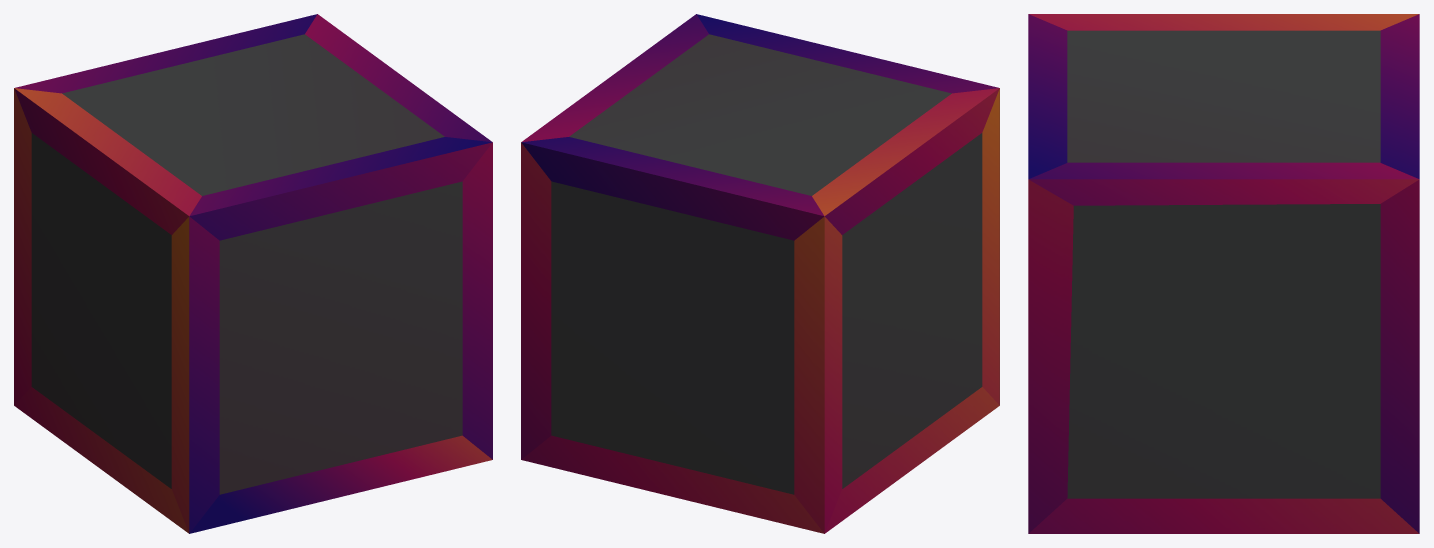
The model's file is StageTexture.fbx.
3 renders of one model, left to right at view 1: azimuth 30°, elevation 25°; view 2: azimuth 150°, elevation 25°; view 3: azimuth 270°, elevation 25°, orthographic. The views are drawn at different scales.
Parts seen in each view (by area): view 1: 立方体; view 2: 立方体; view 3: 立方体.
Boxes of the visible parts, <box> form: 立方体: <box>14,14,492,533</box>; 立方体: <box>521,14,999,533</box>; 立方体: <box>1028,14,1419,533</box>.
Bounding box in the file's own units: 102 × 100 × 100.
Materials: 1 (1 with a texture image).
